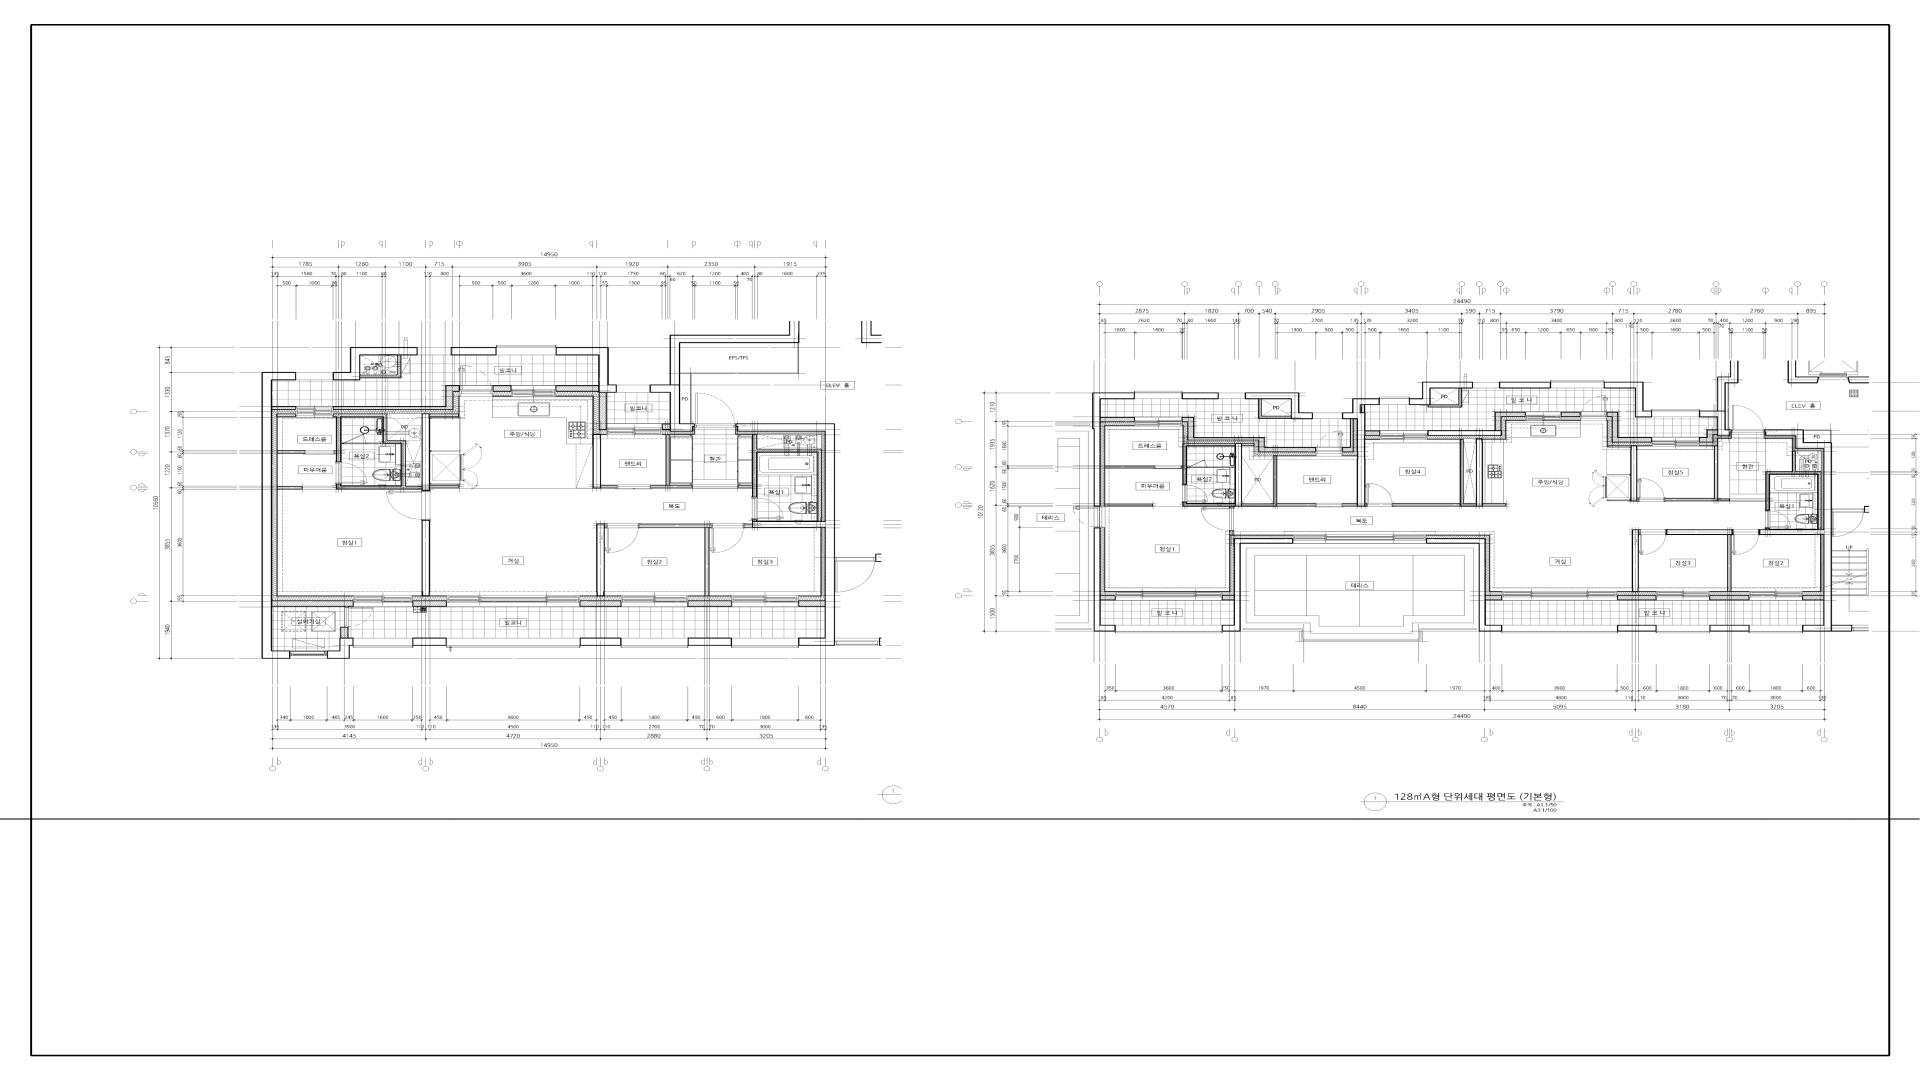door: (695, 393, 736, 427), (386, 491, 430, 521), (605, 524, 640, 554), (711, 524, 745, 554), (1731, 405, 1764, 433), (459, 365, 493, 392), (1201, 506, 1234, 531), (752, 497, 785, 520), (336, 462, 368, 484), (1639, 530, 1667, 555), (1733, 530, 1759, 555), (1638, 479, 1665, 502), (1072, 506, 1102, 527), (1366, 483, 1393, 506), (1581, 396, 1607, 418), (1316, 431, 1342, 454), (344, 608, 373, 628), (1766, 510, 1791, 530), (1183, 484, 1208, 502), (342, 434, 367, 444), (305, 450, 335, 455), (617, 485, 650, 489), (1153, 502, 1183, 506), (1155, 465, 1183, 469), (1316, 504, 1342, 508)
wall: (736, 423, 835, 646), (1759, 430, 1853, 632), (650, 335, 799, 431), (261, 372, 297, 659), (334, 414, 460, 491), (680, 343, 799, 423), (1183, 443, 1316, 506), (1393, 438, 1506, 506), (737, 434, 822, 521), (1425, 538, 1502, 632), (1221, 538, 1294, 632), (640, 524, 711, 596), (1092, 393, 1135, 506), (1182, 417, 1316, 452), (1766, 451, 1821, 530), (1667, 530, 1733, 591), (1342, 398, 1379, 506), (1665, 446, 1730, 501), (334, 385, 459, 410), (1698, 360, 1738, 436), (332, 347, 418, 380), (556, 347, 617, 393), (650, 435, 694, 489), (1093, 527, 1116, 632), (1428, 411, 1526, 435), (1183, 443, 1236, 485), (1245, 393, 1313, 419), (1604, 382, 1652, 418), (1607, 446, 1638, 501), (1408, 382, 1473, 405), (1607, 411, 1652, 443), (592, 434, 617, 489), (360, 356, 401, 378), (1788, 360, 1818, 384), (596, 524, 605, 596), (1258, 400, 1291, 419), (1428, 389, 1462, 407), (422, 521, 430, 596), (327, 638, 353, 659), (272, 600, 353, 607), (451, 347, 496, 356), (1499, 381, 1551, 389), (1633, 530, 1639, 591), (1342, 419, 1354, 452), (688, 638, 732, 646), (1804, 430, 1832, 442), (580, 638, 621, 646), (599, 393, 607, 430), (688, 600, 732, 607), (555, 385, 599, 392), (1709, 595, 1750, 601), (580, 600, 621, 607), (1709, 625, 1750, 632), (1617, 595, 1656, 601), (413, 638, 446, 646), (1617, 625, 1656, 632), (1182, 393, 1218, 400), (1700, 430, 1717, 443), (413, 600, 447, 607), (799, 600, 825, 607), (1101, 417, 1134, 422), (1847, 377, 1870, 384), (1803, 595, 1824, 601), (1105, 465, 1155, 468), (1105, 504, 1153, 506), (493, 385, 512, 392), (277, 450, 305, 454), (1561, 411, 1581, 417), (272, 406, 295, 410), (1486, 595, 1502, 600), (340, 628, 348, 638), (1222, 595, 1234, 601), (1101, 595, 1116, 600), (1366, 430, 1379, 435), (277, 487, 303, 489), (662, 423, 670, 430), (277, 414, 295, 417), (1342, 504, 1357, 506), (745, 524, 752, 529), (1865, 506, 1870, 513), (1229, 531, 1233, 535), (752, 520, 757, 521)
window: (447, 596, 580, 607), (446, 638, 580, 647), (1294, 534, 1427, 543), (1502, 591, 1617, 601), (1116, 591, 1222, 600), (1502, 625, 1617, 633), (1116, 625, 1222, 633), (621, 596, 688, 607), (732, 596, 799, 607), (607, 423, 662, 435), (496, 345, 556, 356), (353, 596, 413, 607), (732, 638, 799, 647), (621, 638, 688, 647), (353, 638, 413, 647), (512, 385, 556, 397), (1379, 430, 1428, 440), (1652, 436, 1700, 447), (1656, 591, 1710, 600), (1750, 591, 1803, 600), (1134, 417, 1182, 426), (1551, 380, 1604, 388), (1750, 625, 1803, 633), (1656, 625, 1709, 633), (295, 406, 334, 417), (1134, 392, 1182, 400), (1652, 409, 1700, 417), (290, 650, 327, 659), (1526, 411, 1561, 421), (418, 347, 451, 356), (295, 372, 332, 380), (617, 385, 650, 393), (1379, 397, 1410, 405), (1313, 413, 1342, 419), (1218, 393, 1245, 400), (1473, 382, 1499, 388), (1853, 625, 1869, 632)
